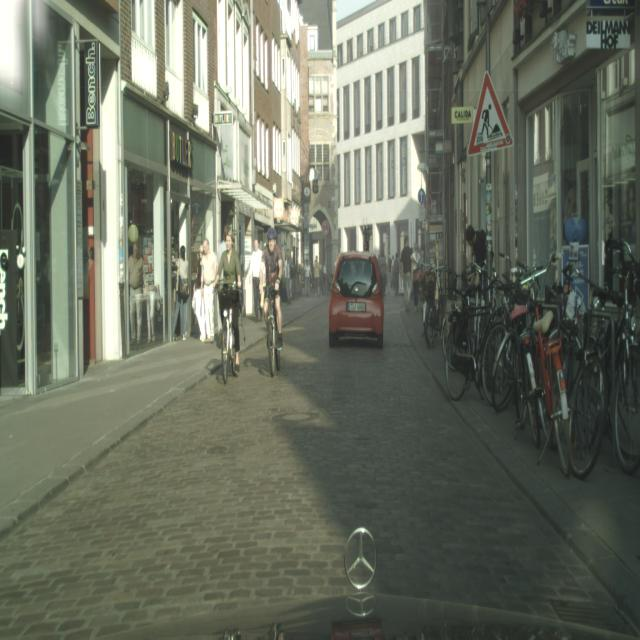car: (561, 263, 608, 478), (597, 241, 640, 475), (492, 298, 550, 455), (444, 274, 507, 401), (531, 287, 573, 476), (262, 281, 282, 376), (218, 295, 238, 384)
person: (216, 228, 243, 376), (259, 227, 284, 361), (128, 237, 154, 345), (199, 238, 218, 342), (172, 246, 190, 341), (247, 237, 262, 322), (400, 236, 413, 306), (392, 252, 400, 298)
truck: (328, 250, 385, 348)
